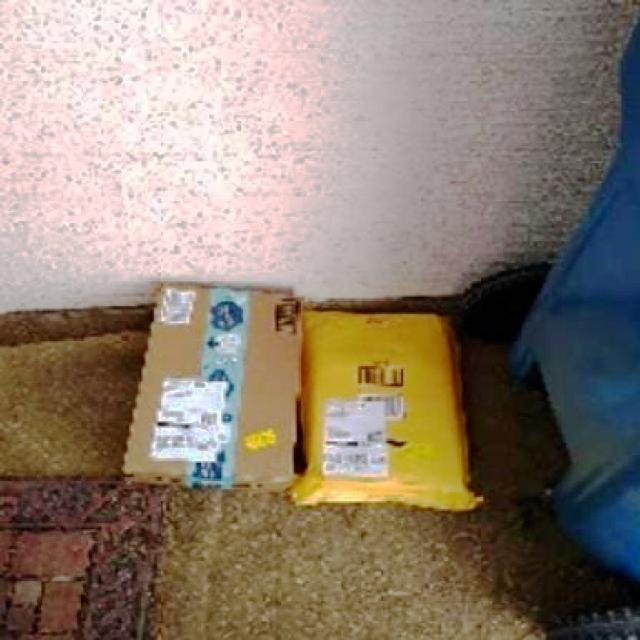Box: (294, 314, 488, 512), (124, 280, 302, 492)
